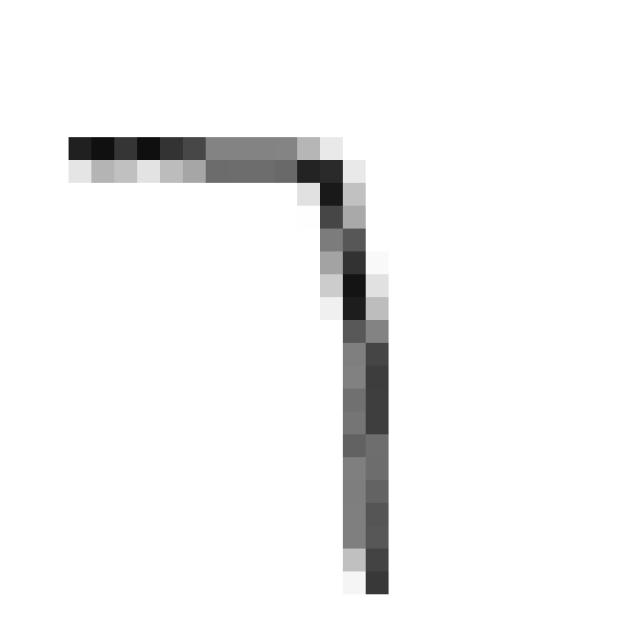6 -six-: (46, 112, 413, 617)
